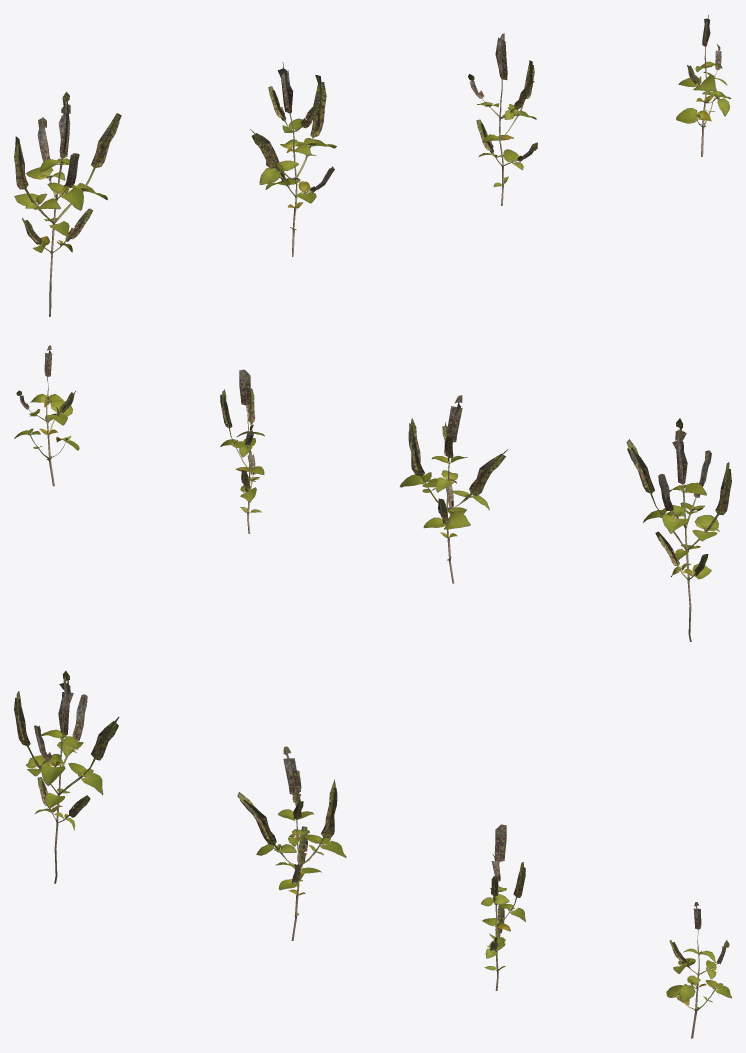
Rendered from shrub_03.glb.
The picture shows the model from 3 angles, top to bottom: view 1: azimuth 30°, elevation 25°; view 2: azimuth 150°, elevation 25°; view 3: azimuth 330°, elevation 25°; orthographic projection. The views are drawn at different scales.
Visible parts, largest first — view 1: shrub_03_a; view 2: shrub_03_a; view 3: shrub_03_a.
Part boxes in pixels (x1,y1,x2,y2): shrub_03_a: [14, 15, 731, 316]; shrub_03_a: [14, 345, 731, 641]; shrub_03_a: [14, 671, 731, 1038].
Size of the model in its own units: 1.37 by 0.4029 by 0.1512.
1 material, 1 textured.
